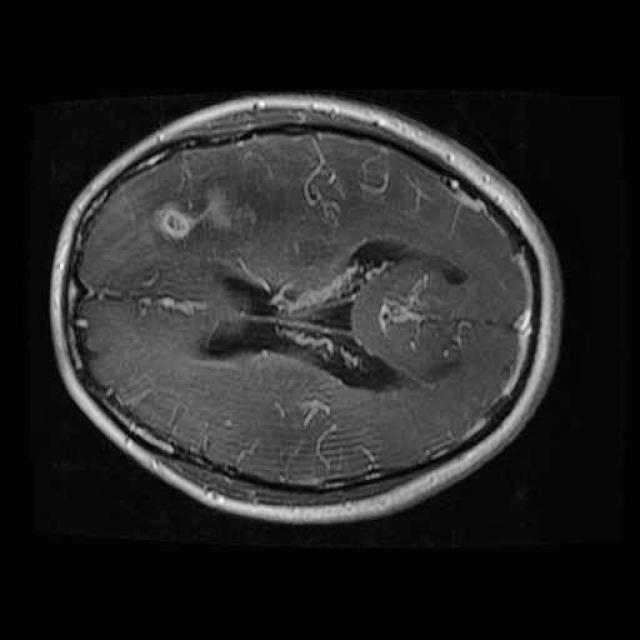Tumor: (126, 142, 283, 268)
